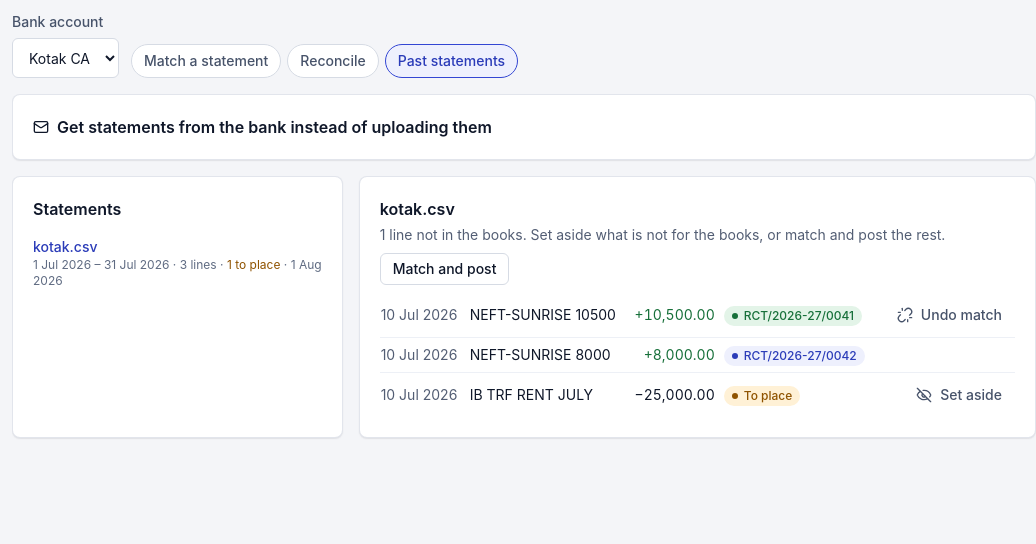
Test case: a line matched to the wrong entry › can be left as it is
Click the button "Undo match" at (949, 315), box 885,299 -> 1014,331
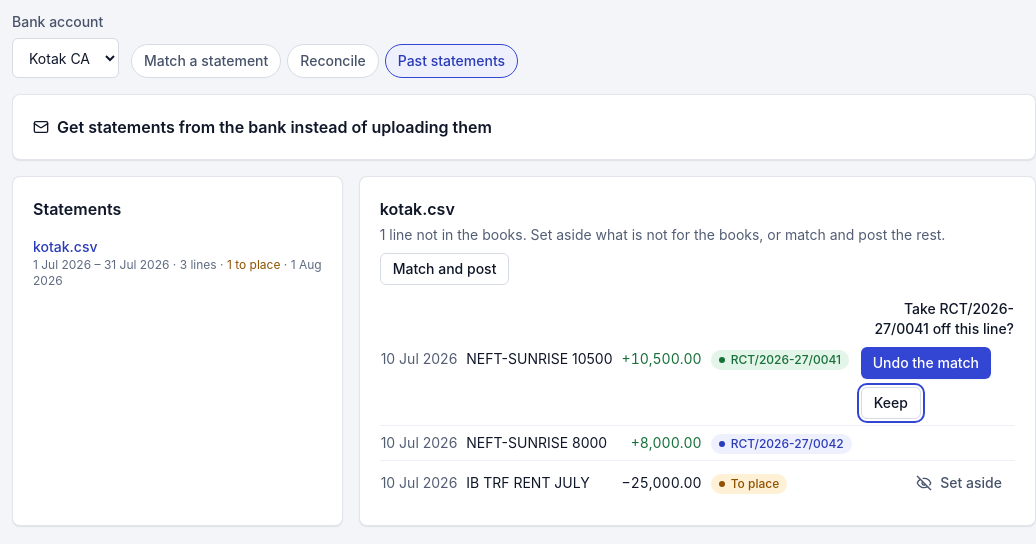
Click the button "Keep" at (891, 403), box 861,387 -> 921,419
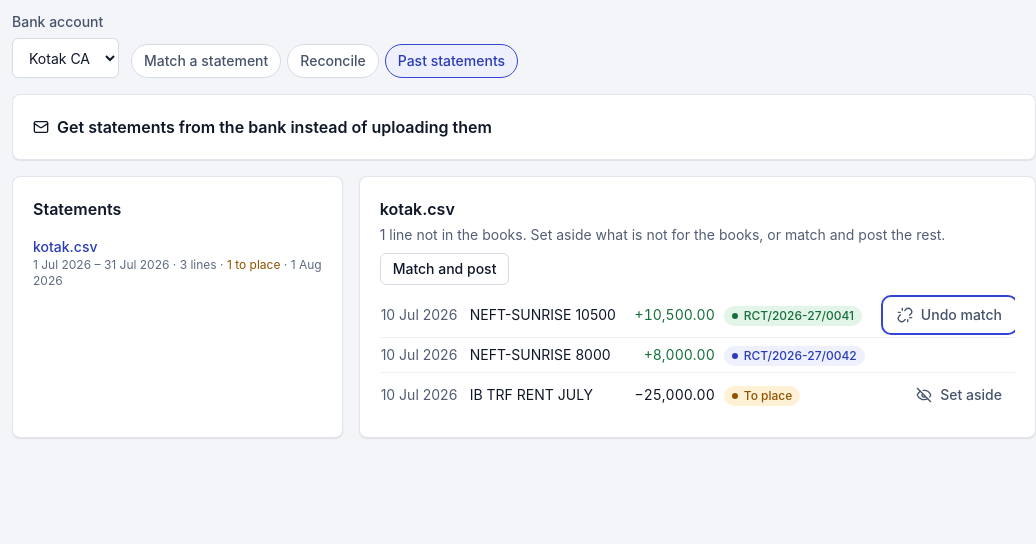
Result: the button "Undo match" is shown at 885,299 -> 1014,331
